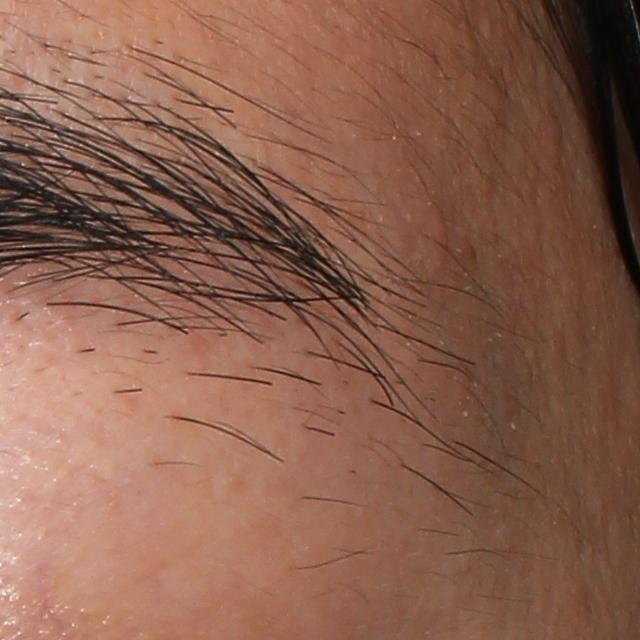papule: (541, 116, 567, 149)
